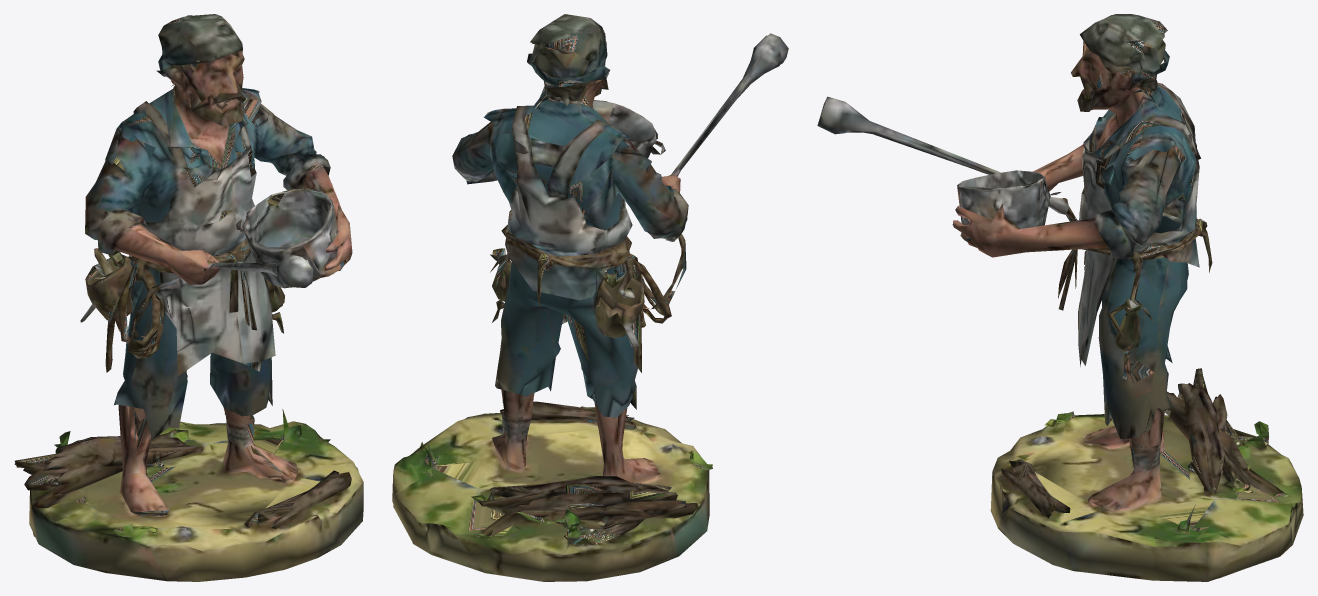
Rendered from sw-cook-lite.glb.
3 renders of one model, left to right at view 1: azimuth 30°, elevation 25°; view 2: azimuth 150°, elevation 25°; view 3: azimuth 270°, elevation 25°, orthographic. The views are drawn at different scales.
Parts seen in each view (by area): view 1: geometry_0; view 2: geometry_0; view 3: geometry_0.
Boxes of the visible parts, x1,y1,x2,y2 form: geometry_0: (14, 14, 363, 581); geometry_0: (392, 14, 788, 581); geometry_0: (817, 14, 1303, 581).
Size of the model in its own units: 0.5415 by 0.8874 by 0.7856.
Materials: 1 (1 with a texture image).
